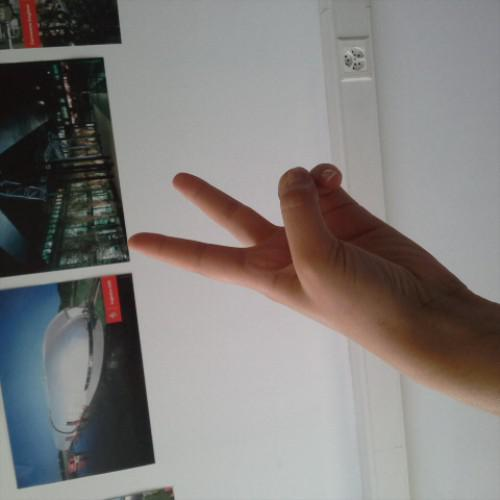scissors: (123, 148, 476, 362)
